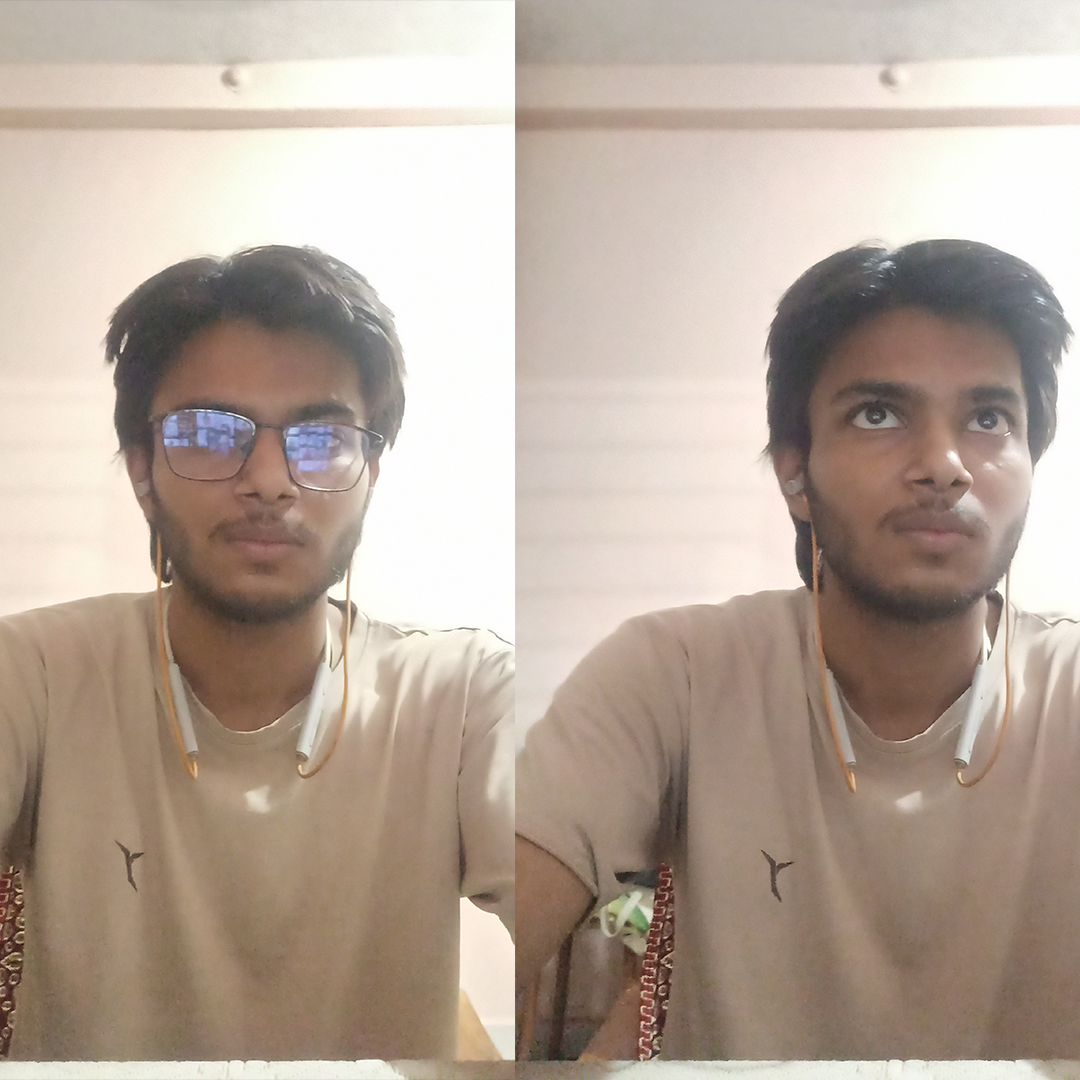Focused: (82, 222, 422, 641), (727, 248, 1057, 650)
